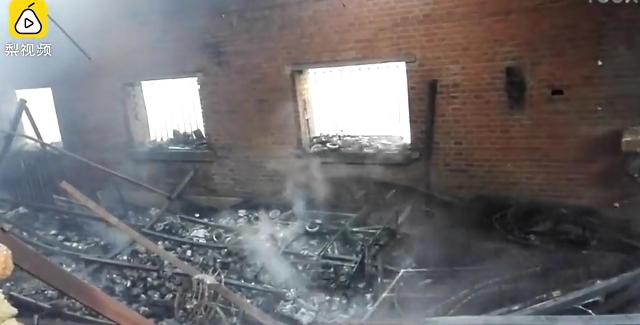smoke: (274, 136, 340, 207), (238, 213, 296, 283)
